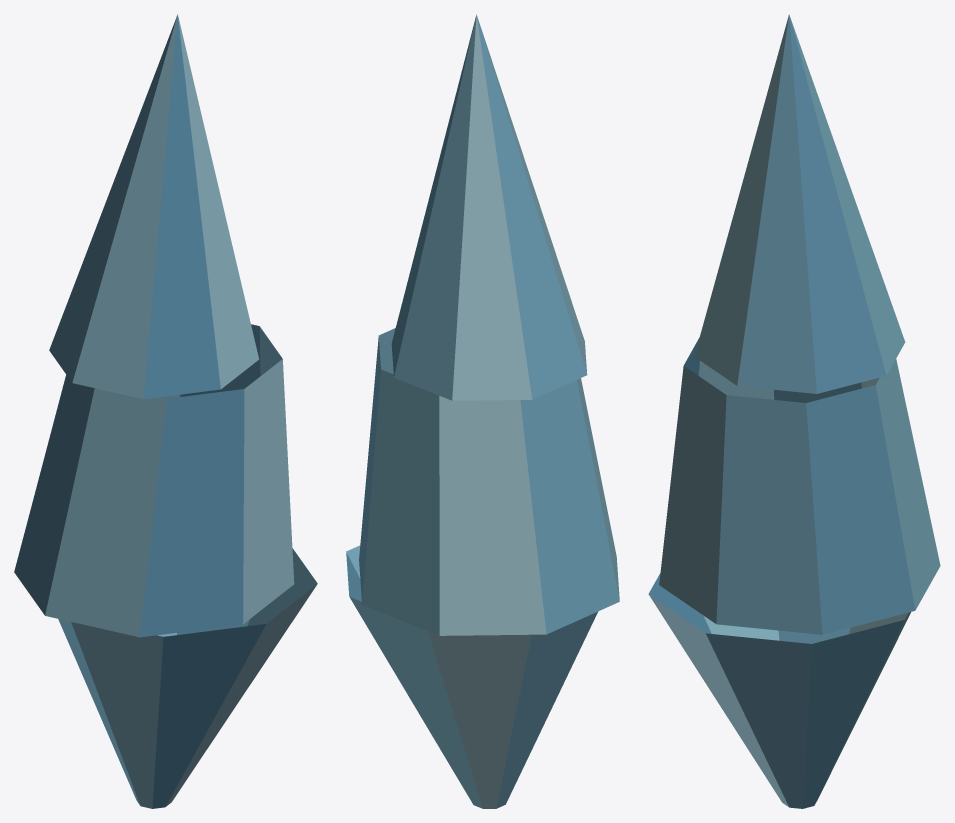
File: 2030_Icicles_Trigger_KaeyaGrain.fbx
3 renders of one model, left to right at view 1: azimuth 30°, elevation 25°; view 2: azimuth 150°, elevation 25°; view 3: azimuth 270°, elevation 25°, orthographic. The views are drawn at different scales.
Parts seen in each view (by area): view 1: ASSET_KaeyaOrbit_Icicle1_FrostGrain0_CrystalBody; view 2: ASSET_KaeyaOrbit_Icicle1_FrostGrain0_CrystalBody; view 3: ASSET_KaeyaOrbit_Icicle1_FrostGrain0_CrystalBody.
Boxes of the visible parts, left/top/right/bottom form: ASSET_KaeyaOrbit_Icicle1_FrostGrain0_CrystalBody: left=14, top=14, right=317, bottom=808; ASSET_KaeyaOrbit_Icicle1_FrostGrain0_CrystalBody: left=346, top=14, right=619, bottom=808; ASSET_KaeyaOrbit_Icicle1_FrostGrain0_CrystalBody: left=648, top=14, right=940, bottom=808.
Size of the model in its own units: 25.49 by 74 by 24.59.
